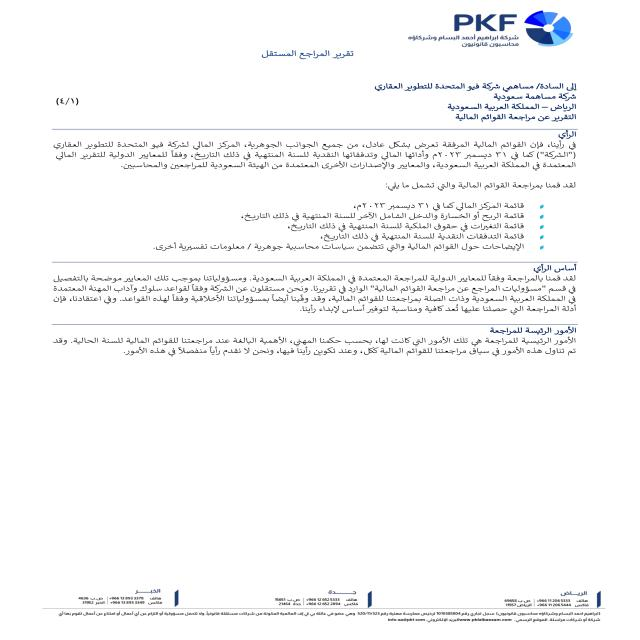auditor_report: (242, 42, 358, 70)
